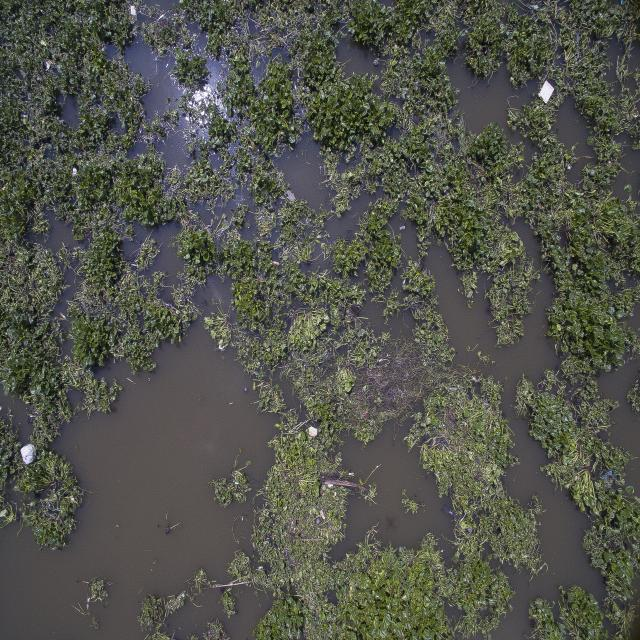plastic: (536, 65, 561, 118), (12, 442, 51, 474), (310, 423, 322, 443)
